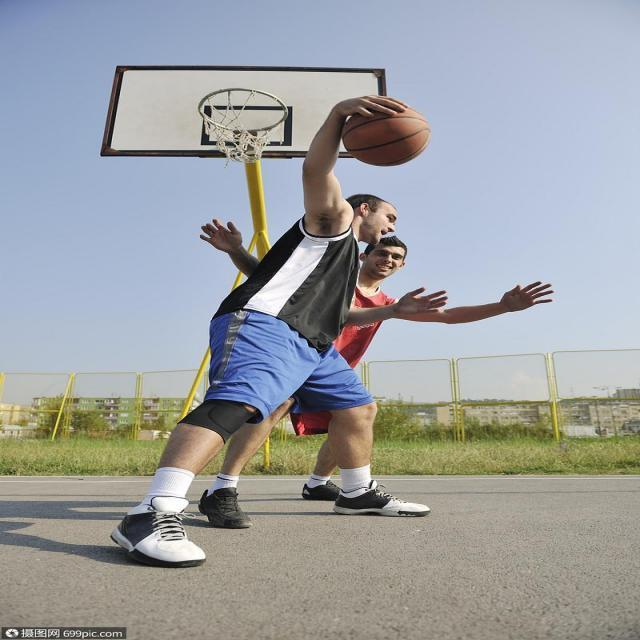rim: (342, 103, 428, 165)
